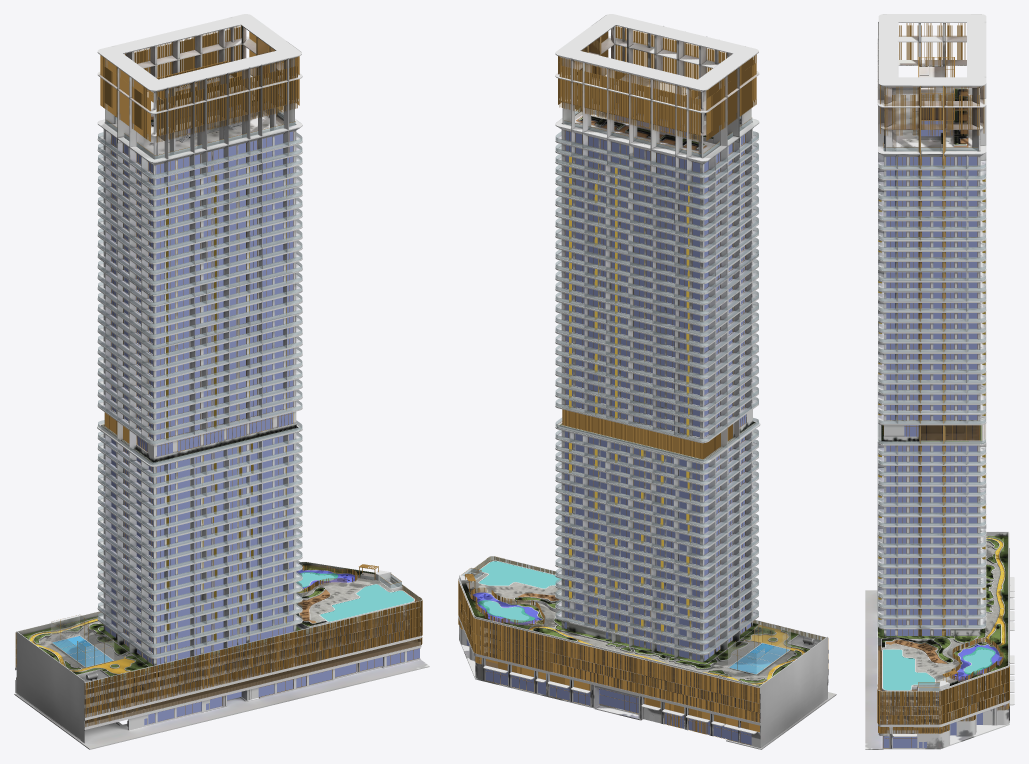
The model's file is Marriott_Residences_build.glb.
3 renders of one model, left to right at view 1: azimuth 30°, elevation 25°; view 2: azimuth 150°, elevation 25°; view 3: azimuth 270°, elevation 25°, orthographic. The views are drawn at different scales.
Parts seen in each view (by area): view 1: Marriott_build; view 2: Marriott_build; view 3: Marriott_build.
Part boxes in pixels (x1,y1,x2,y2): Marriott_build: (14,14,429,749); Marriott_build: (458,14,836,749); Marriott_build: (865,14,1014,749).
Size of the model in its own units: 119 by 210 by 46.62.
Materials: 12 (5 with a texture image).
